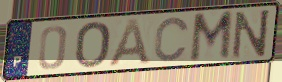0: (36, 24, 69, 71)
A: (107, 18, 154, 68)
C: (152, 16, 191, 64)
M: (188, 8, 235, 65)
N: (230, 7, 272, 61)
O: (73, 20, 112, 70)
